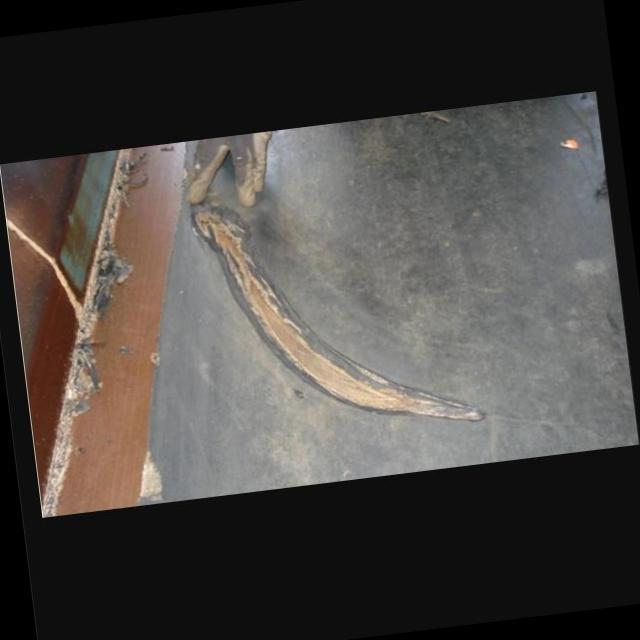Wear: (187, 195, 487, 425)
